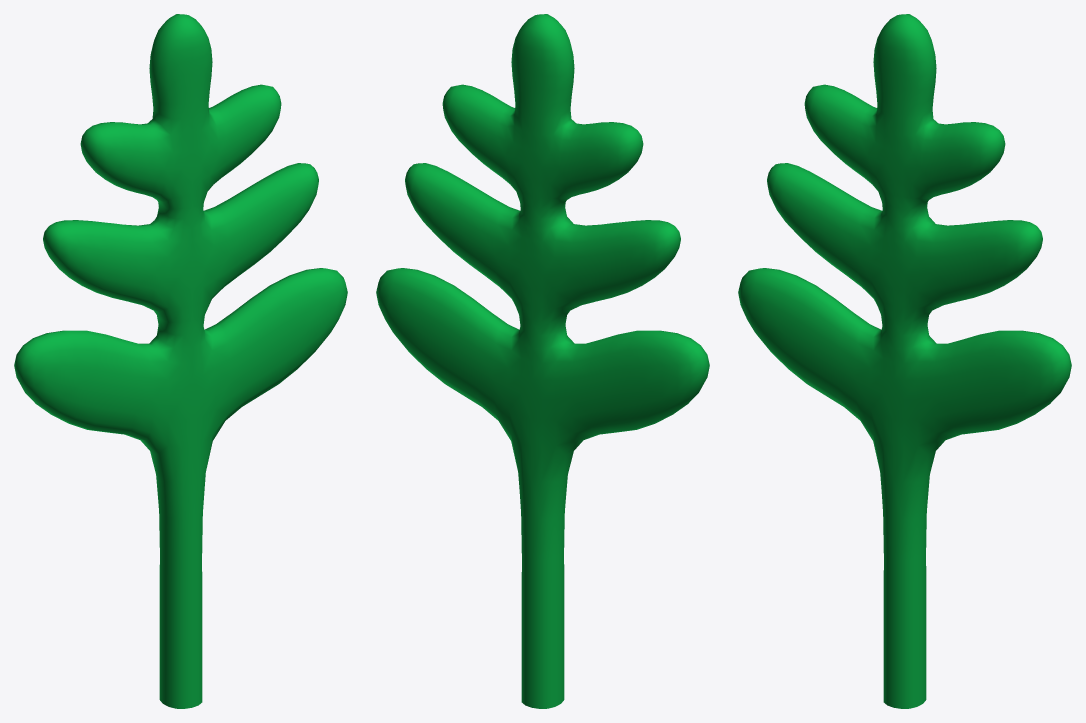
File: Farm_16_Plant_1.glb
3 views of the same model, side by side, from view 1: azimuth 30°, elevation 25°; view 2: azimuth 150°, elevation 25°; view 3: azimuth 330°, elevation 25° (orthographic).
Parts seen in each view (by area): view 1: Farm_16_Plant_1; view 2: Farm_16_Plant_1; view 3: Farm_16_Plant_1.
Part boxes in pixels (x1,y1,x2,y2): Farm_16_Plant_1: (14, 14, 347, 708); Farm_16_Plant_1: (376, 14, 709, 708); Farm_16_Plant_1: (738, 14, 1071, 708).
Bounding box in the file's own units: 1.59 × 3.16 × 0.194.
Materials: 1 (1 with a texture image).
